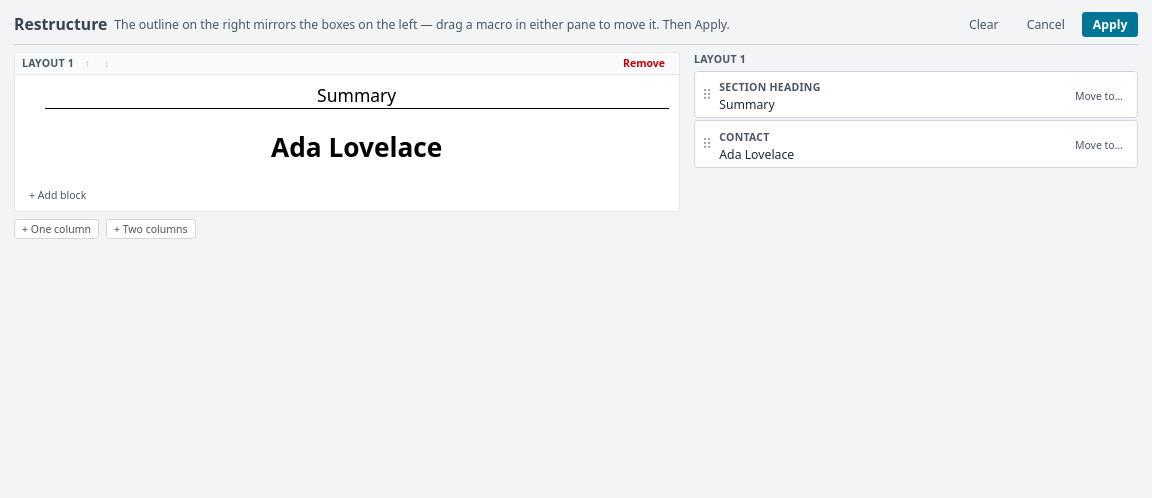
it: RestructureView › adds a one-column and a two-column box
Click the button "+ One column" at x=56, y=229, box [14, 219, 99, 238]
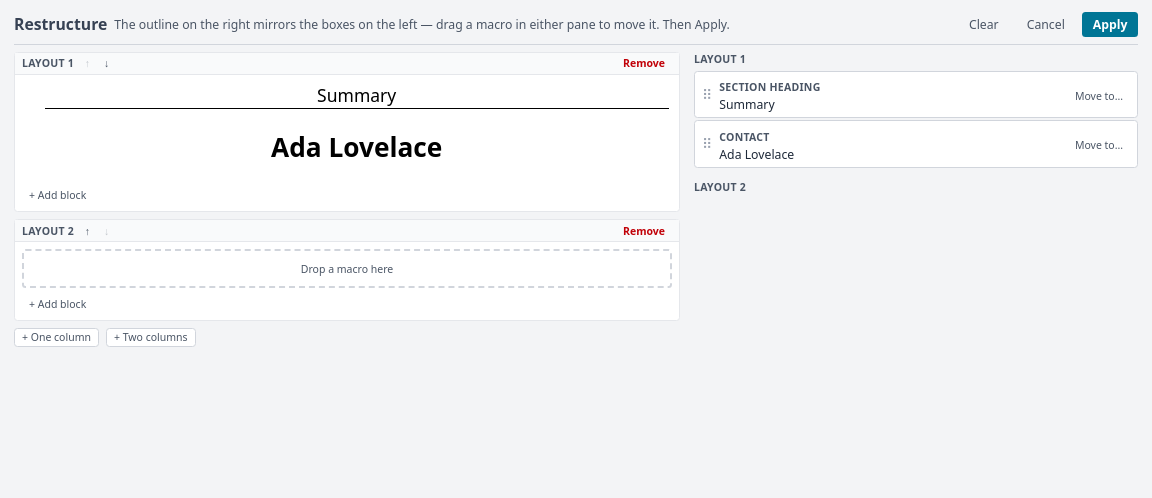
Check: the number of elements with test id "staging-zone" is 2, box [15, 74, 679, 211]; [15, 242, 679, 320]
Click the button "+ Two columns" at x=151, y=337, box [106, 328, 196, 347]
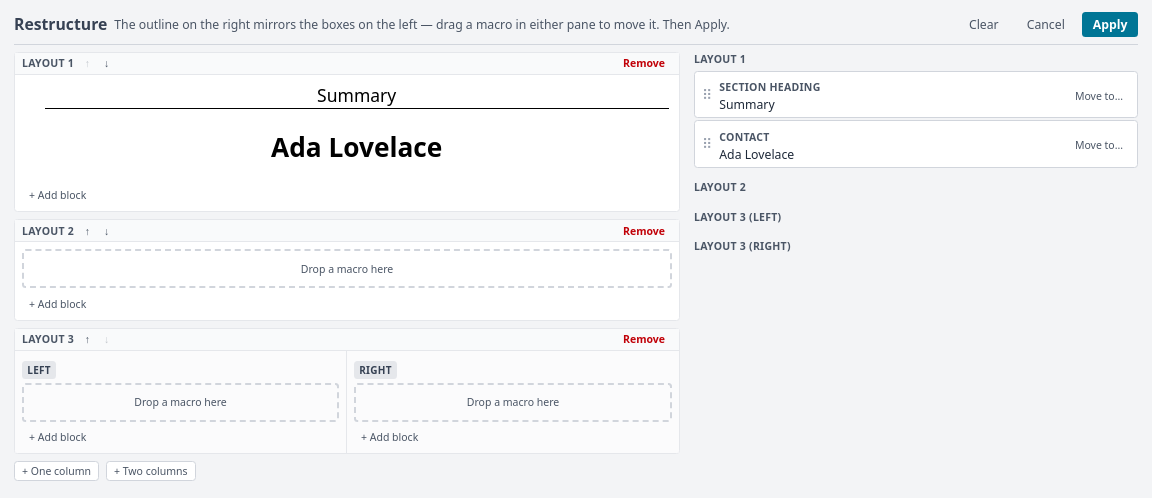
Check: the number of elements with test id "staging-zone" is 4, box [15, 74, 679, 211]; [15, 242, 679, 320]; [15, 350, 347, 453]; [347, 350, 679, 453]
